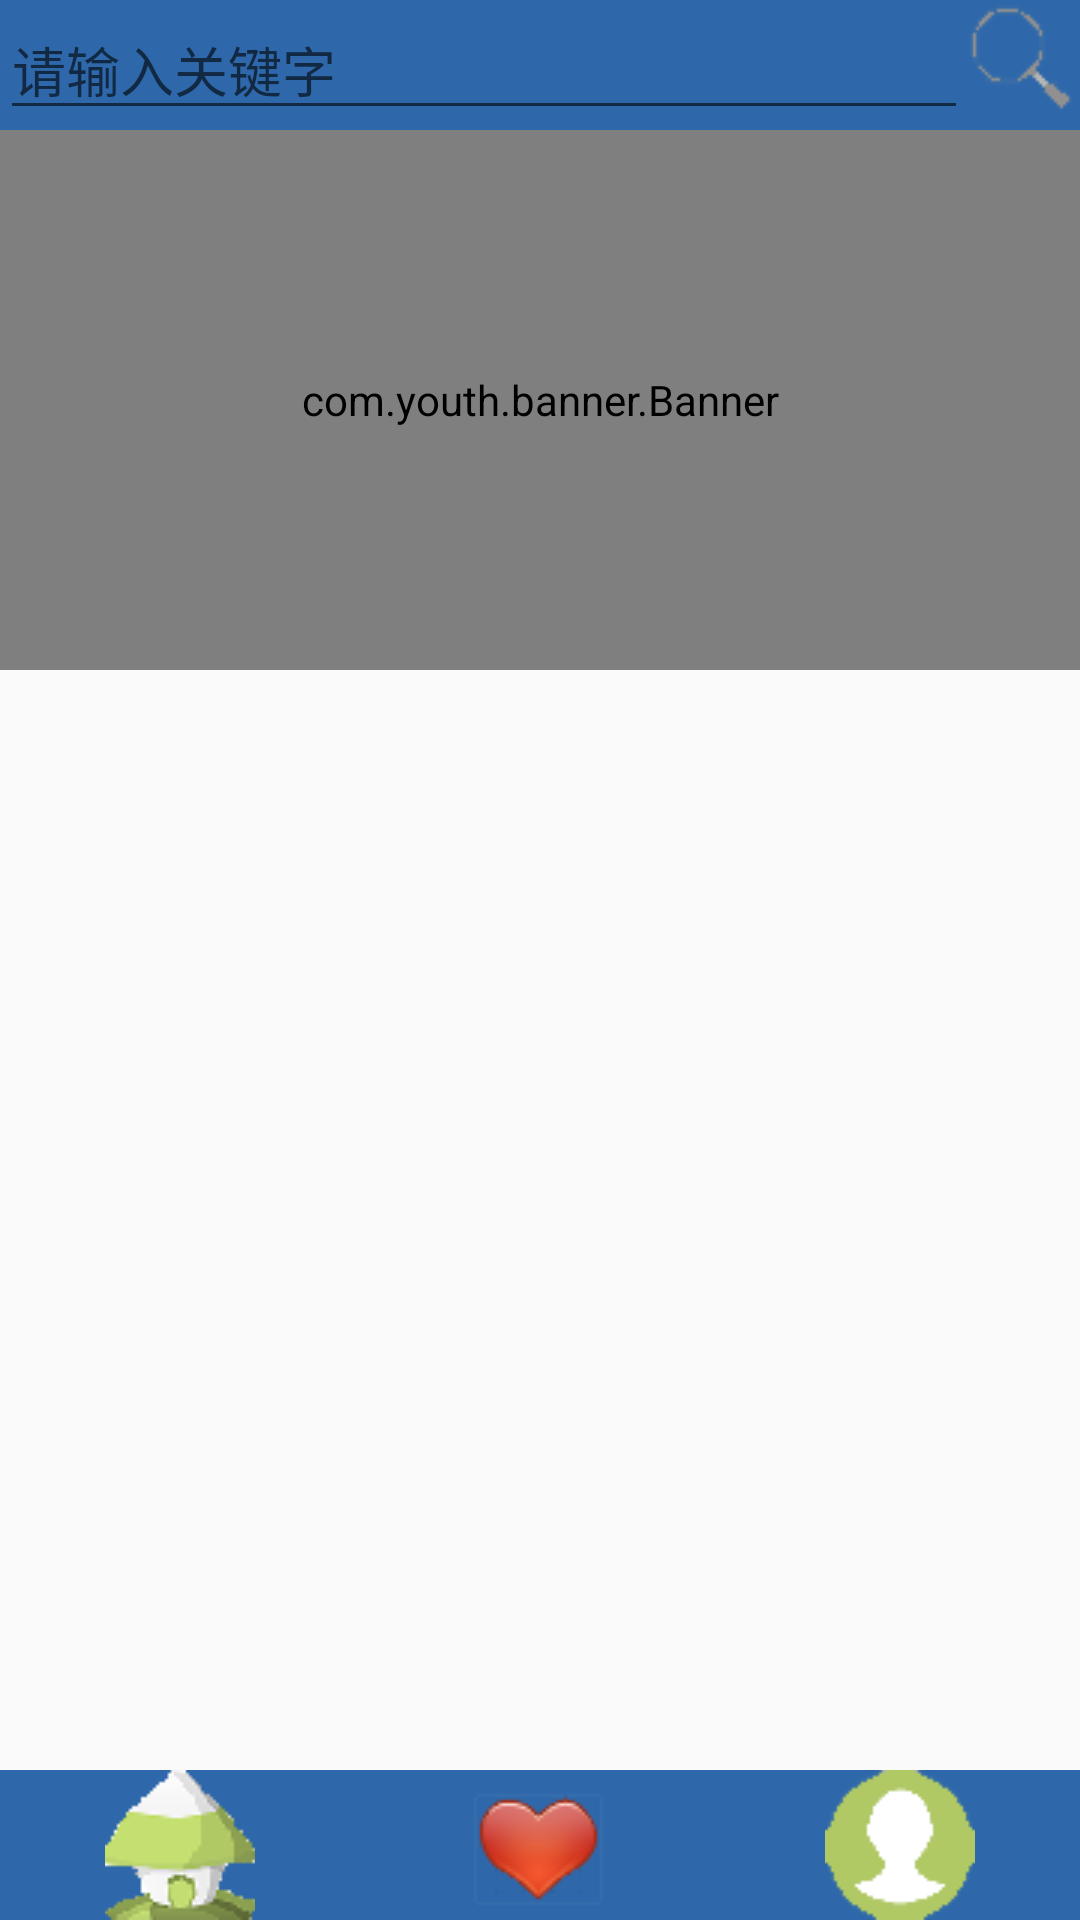

Screen size 1080 x 1920. Icon name, then its box in pixels as box=[x1, y1, x2, y2]:
heart: box=[479, 1796, 598, 1900]
home: box=[0, 1770, 360, 1920]
person: box=[825, 1770, 975, 1920]
title search: box=[972, 8, 1070, 109]
